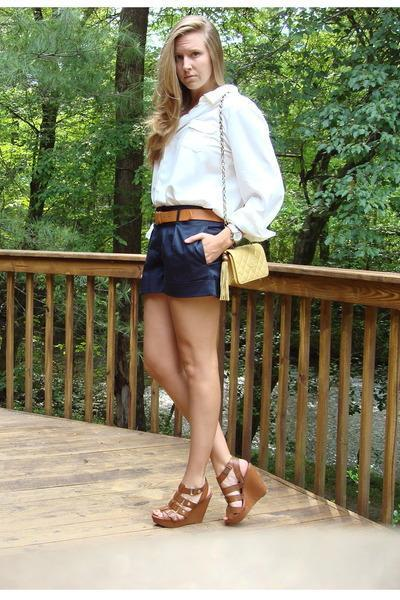bag: (217, 228, 268, 299)
shirt: (152, 84, 286, 239)
shoe: (152, 448, 266, 528)
skirt: (140, 204, 227, 297)
